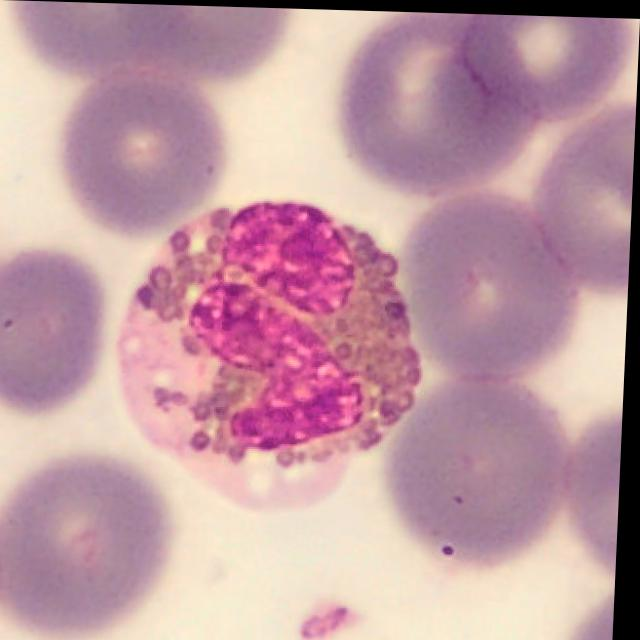Eosinofilo: (120, 196, 425, 510)
